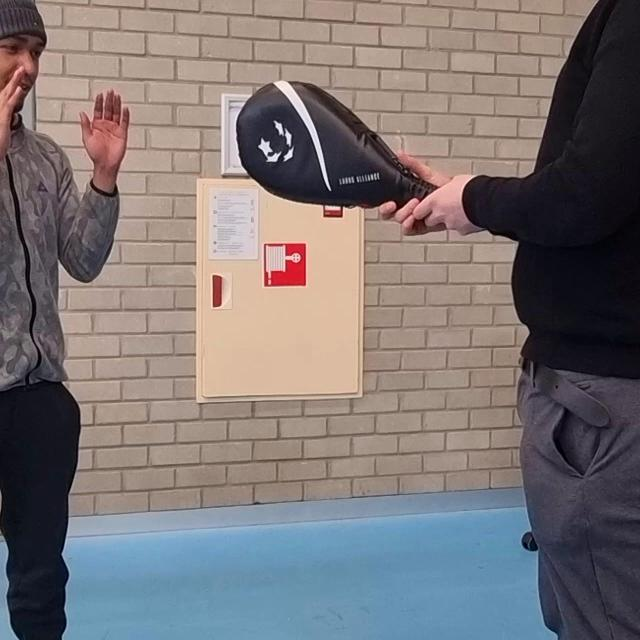paddle: (236, 80, 438, 211)
